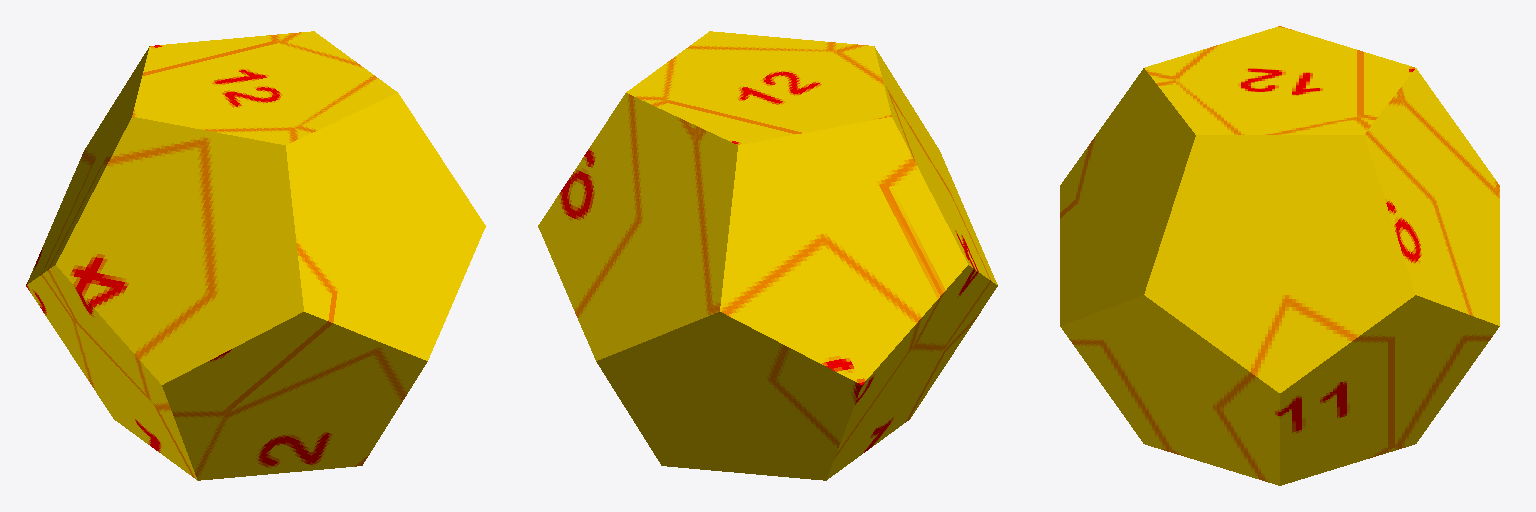
The picture shows the model from 3 angles: view 1: azimuth 30°, elevation 25°; view 2: azimuth 150°, elevation 25°; view 3: azimuth 270°, elevation 25°; orthographic projection.
Visible parts, largest first — view 1: GeoSphere001; view 2: GeoSphere001; view 3: GeoSphere001.
Boxes of the visible parts, box(x1,y1,x2,y2) form: GeoSphere001: box(26, 31, 485, 480); GeoSphere001: box(538, 31, 997, 480); GeoSphere001: box(1060, 26, 1499, 485).
Size of the model in its own units: 14.33 by 11.59 by 13.63.
1 materials, 1 textured.